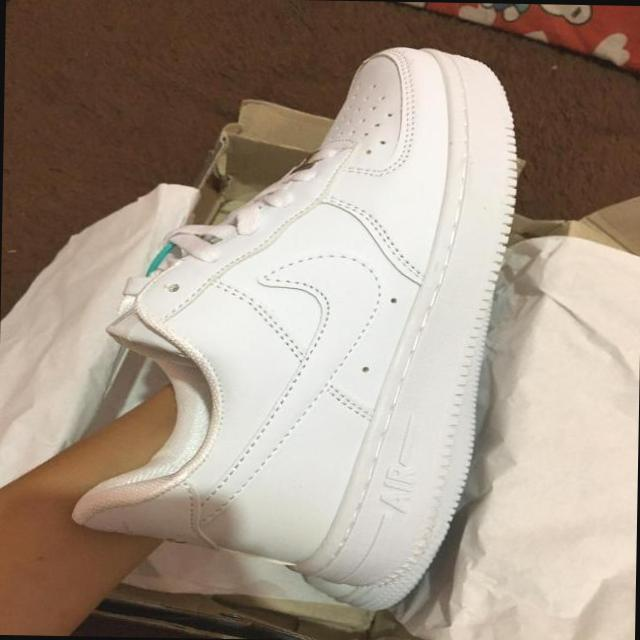nike_fake_airforce: (67, 32, 530, 588)
